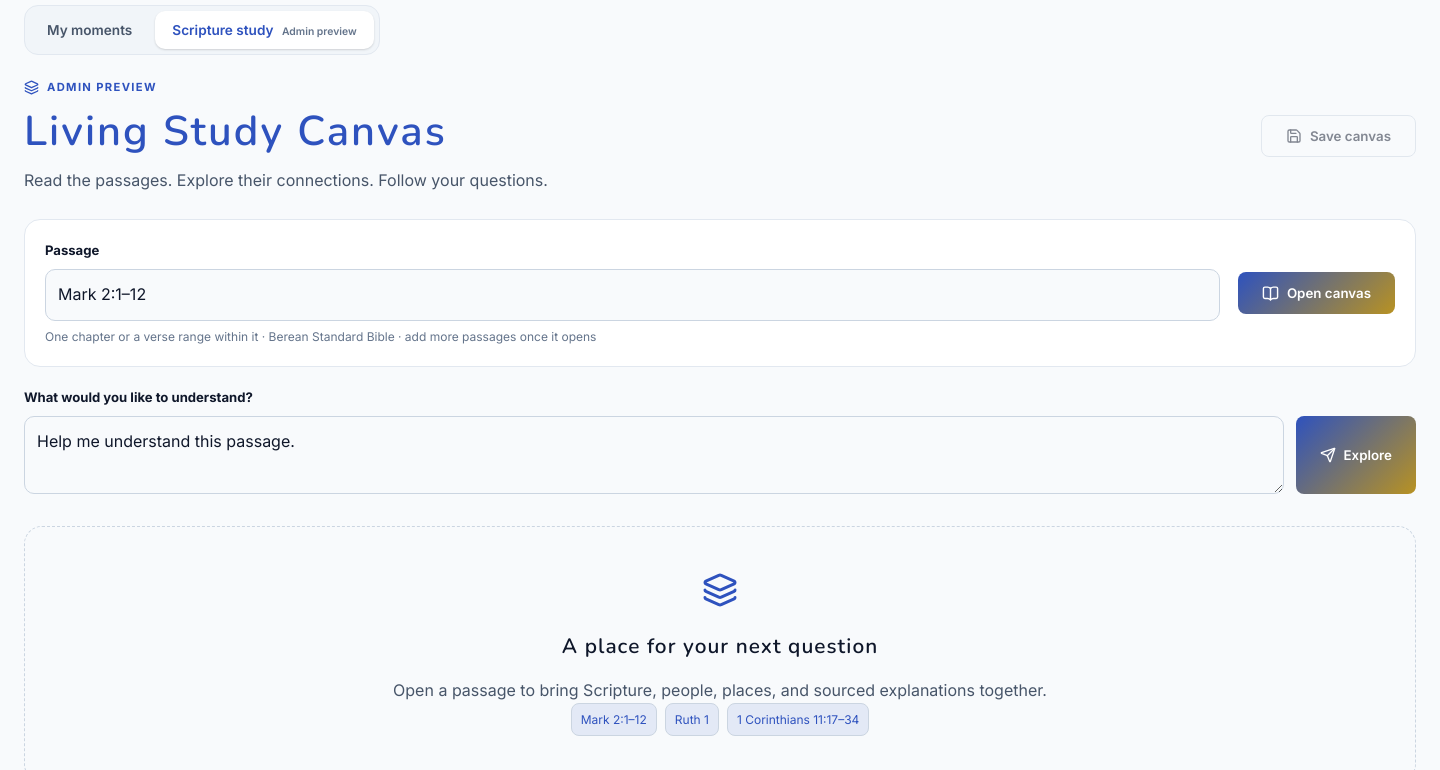
Living Study Canvas › records every step as a path, and keeps a saved canvas up to date
Click the button "Open canvas". click: click(1316, 293)
box: [1238,272,1395,314]
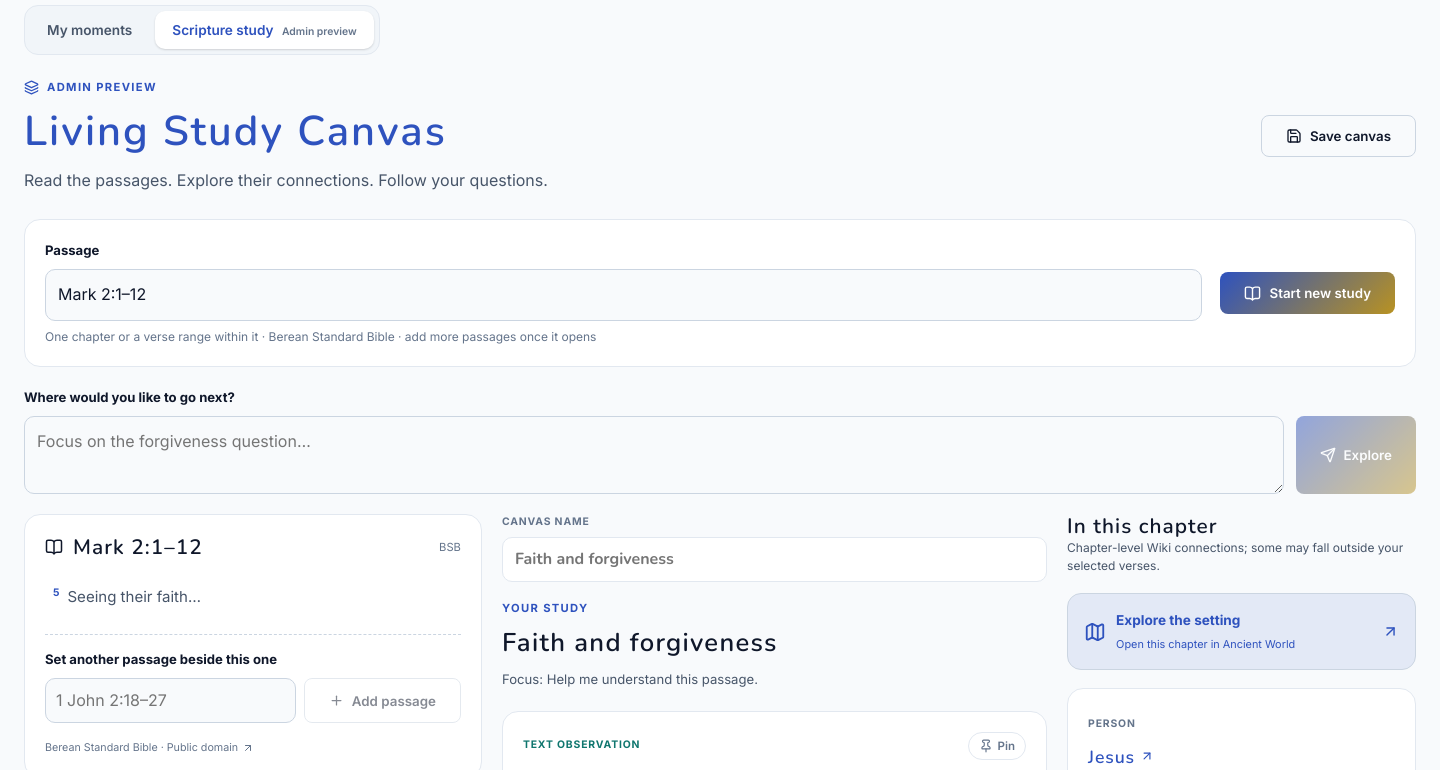
expect the heading "Faith and forgiveness" is shown: met, box [502,625,778,660]
Type "Truth by Contrast" into the field labelled "Canvas name". click: (774, 559)
box: [502,537,1047,582]
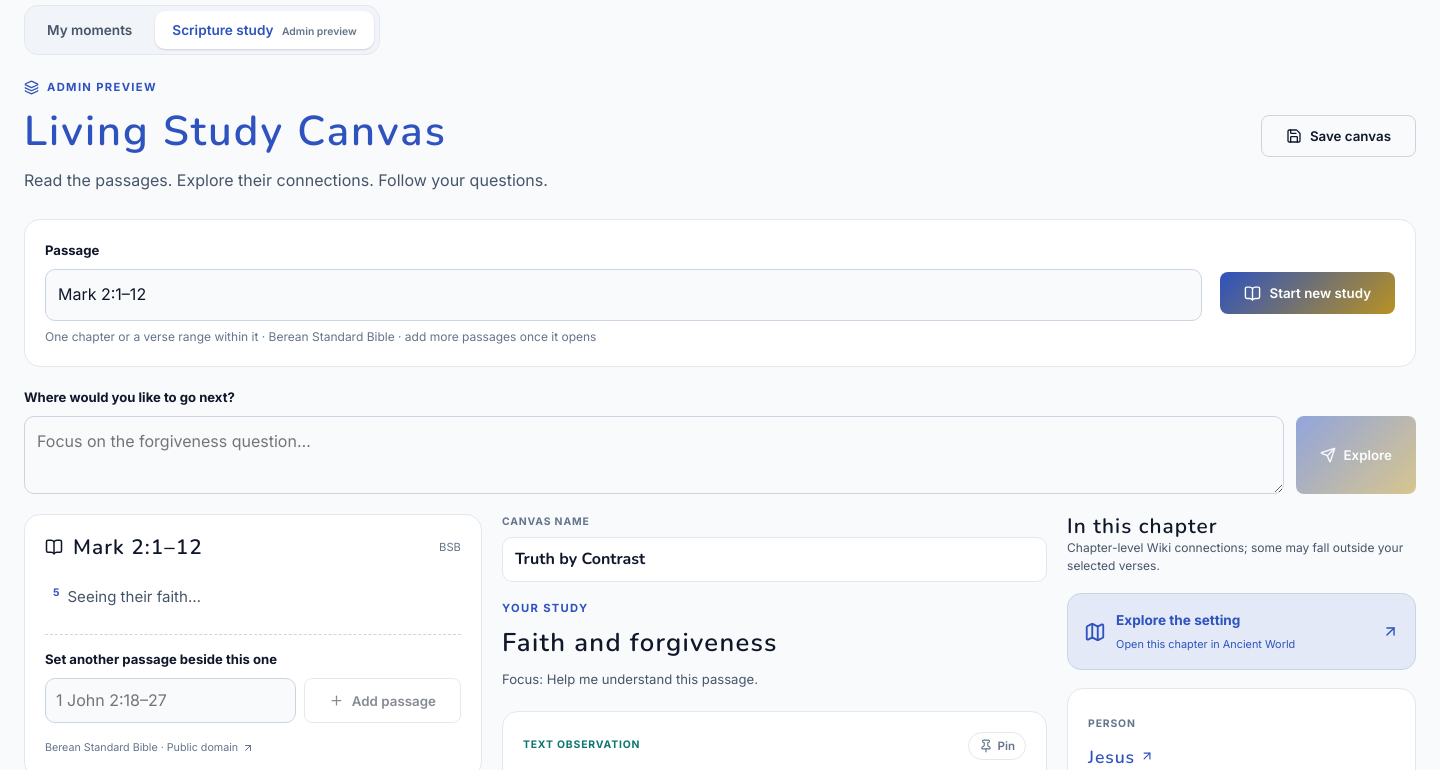
Click the button "Save canvas". click: click(1338, 136)
box: [1261,115,1416,157]
(page scrolled)
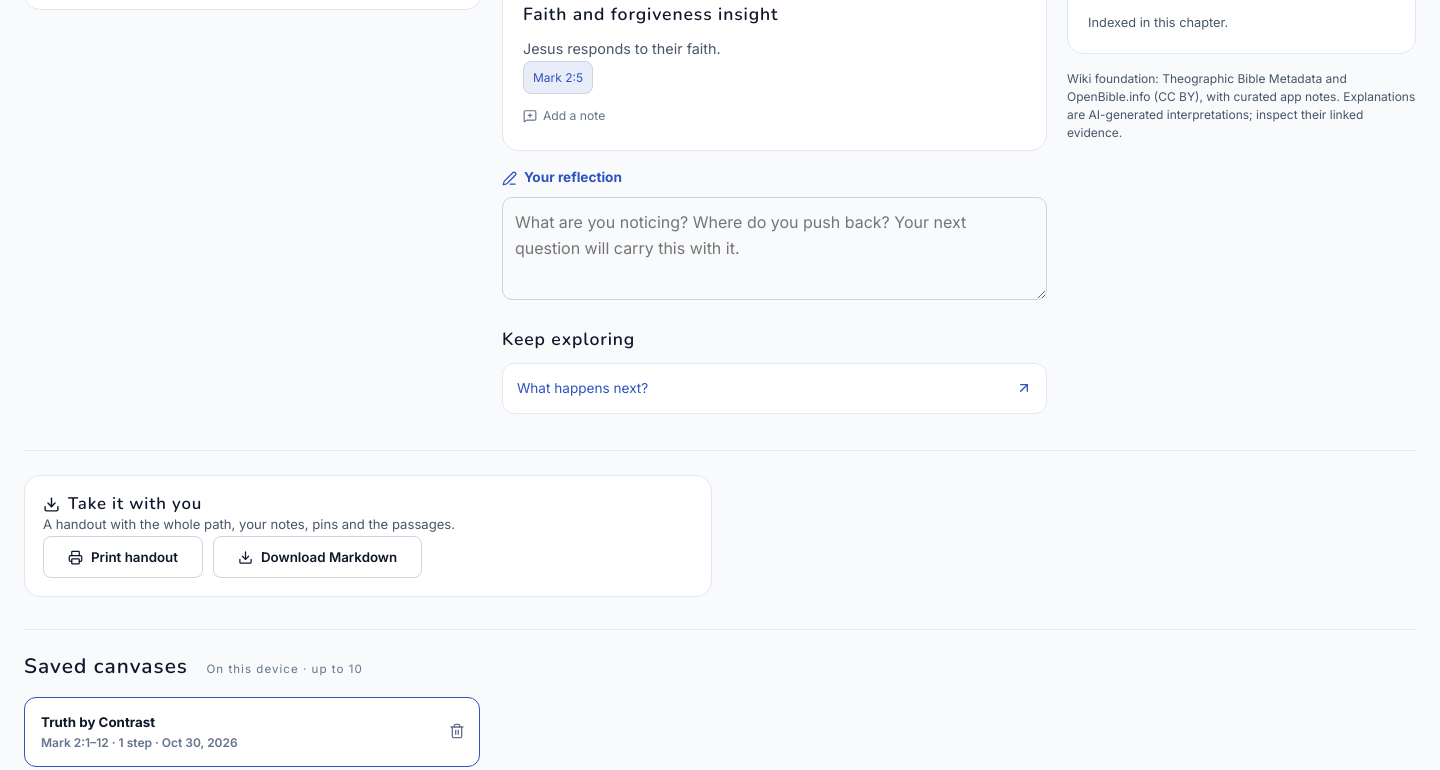
expect the button "Truth by Contrast Mark 2:1–12 · 1 step · Oct 30, 2026" is shown: met, box [25,698,435,766]
Click the button "What happens next?". click: click(583, 388)
box: [502,362,1047,414]
(page scrolled)
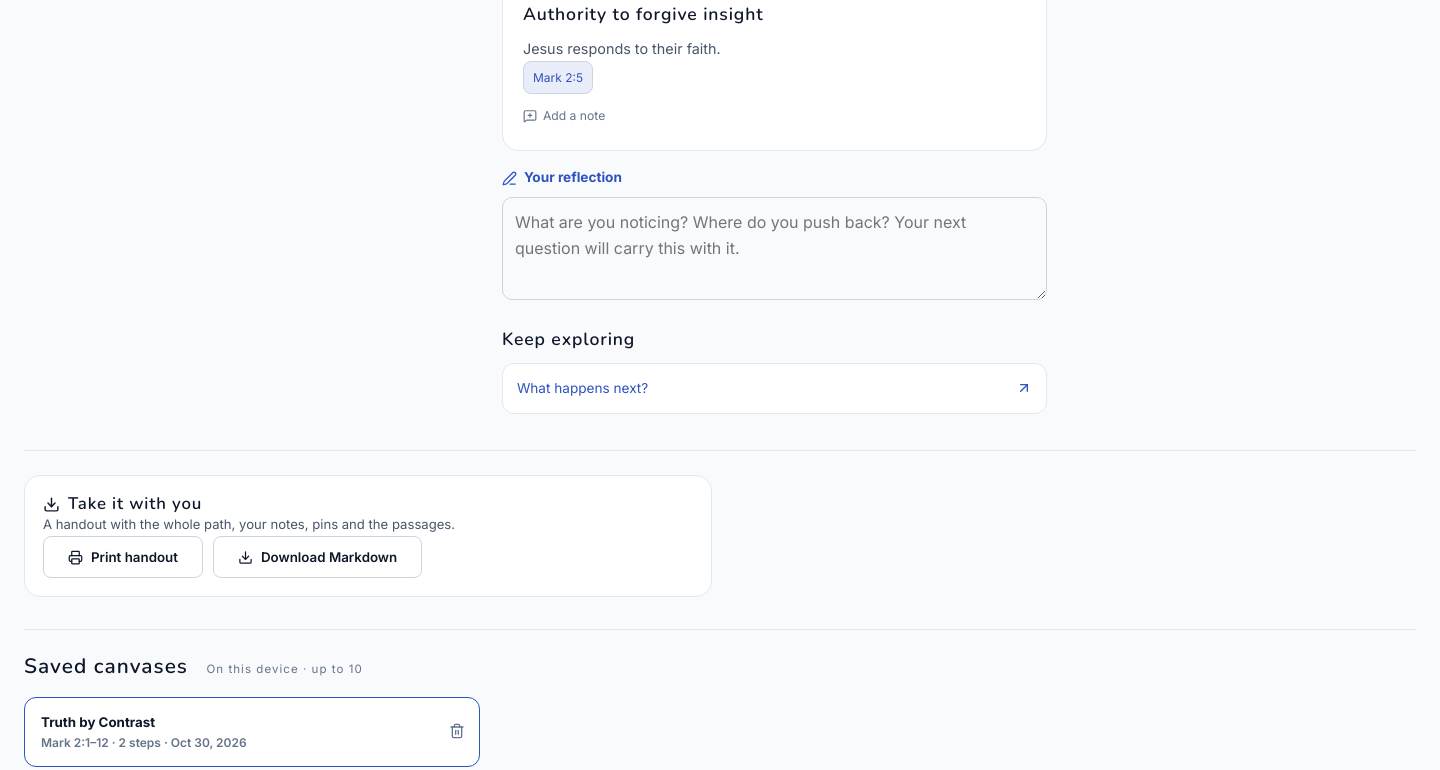
expect the text "Truth by Contrast" is shown: met, box [41,714,155,730]
expect the button "Truth by Contrast Mark 2:1–12 · 2 steps · Oct 30, 2026" is shown: met, box [25,698,435,766]
